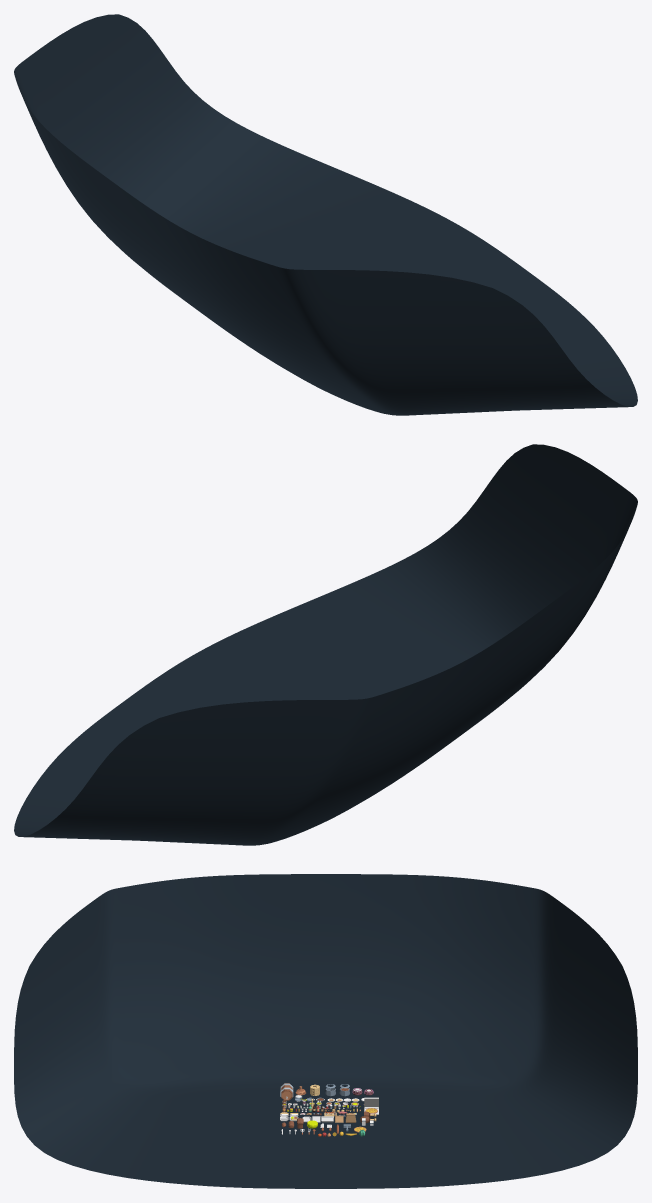
Rendered from foods.fbx.
3 renders of one model, top to bottom at view 1: azimuth 30°, elevation 25°; view 2: azimuth 150°, elevation 25°; view 3: azimuth 270°, elevation 25°, orthographic. The views are drawn at different scales.
Parts seen in each view (by area): view 1: Плоскость; view 2: Плоскость; view 3: Плоскость.
Part boxes in pixels (bbox=[...]): Плоскость: bbox=[14, 14, 637, 415]; Плоскость: bbox=[14, 444, 637, 845]; Плоскость: bbox=[14, 874, 637, 1188].
Bounding box in the file's own units: 2005 × 889 × 3271.
